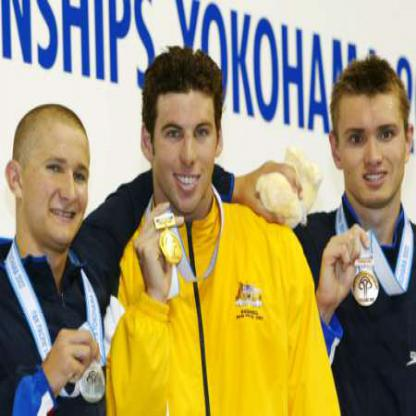face: (22, 107, 96, 247), (153, 59, 219, 215), (339, 65, 408, 210)
